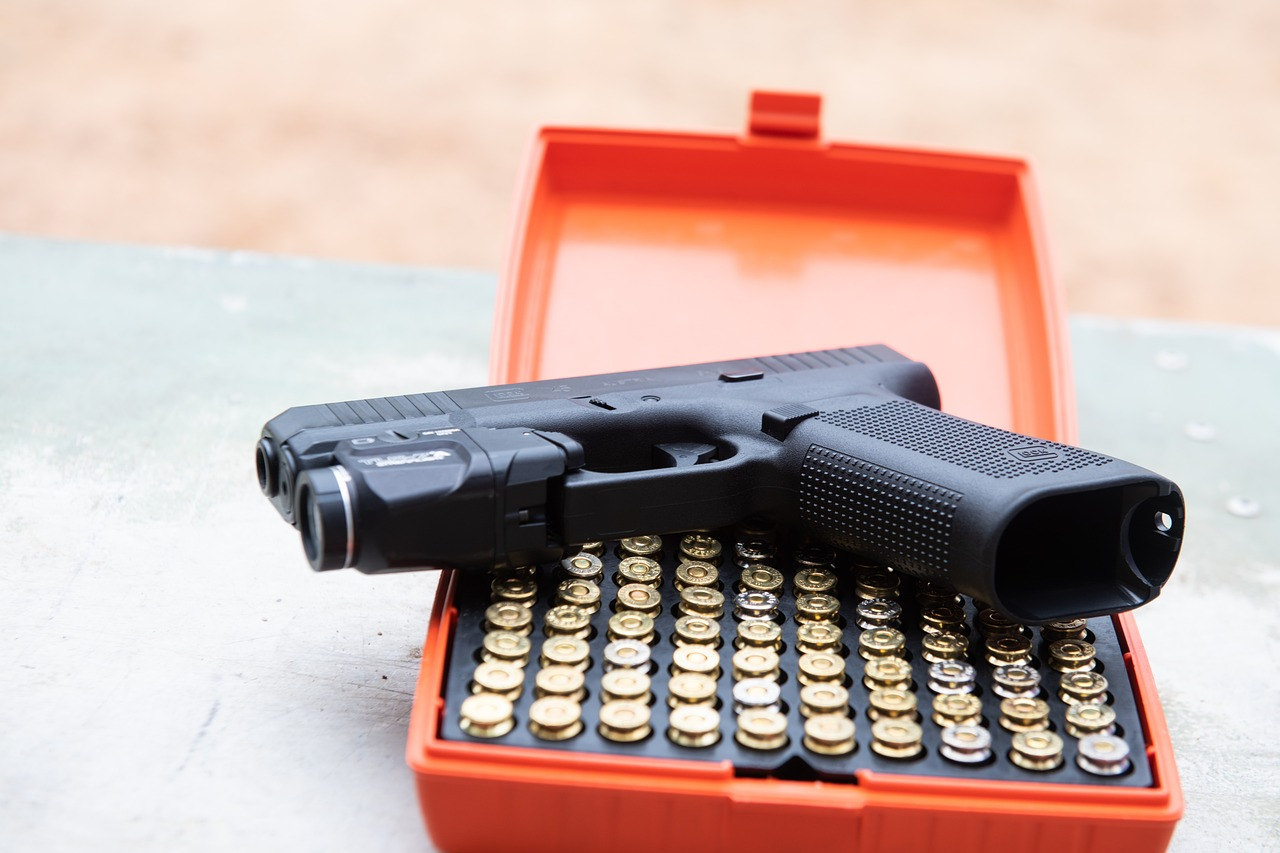gun: (248, 337, 1189, 633)
